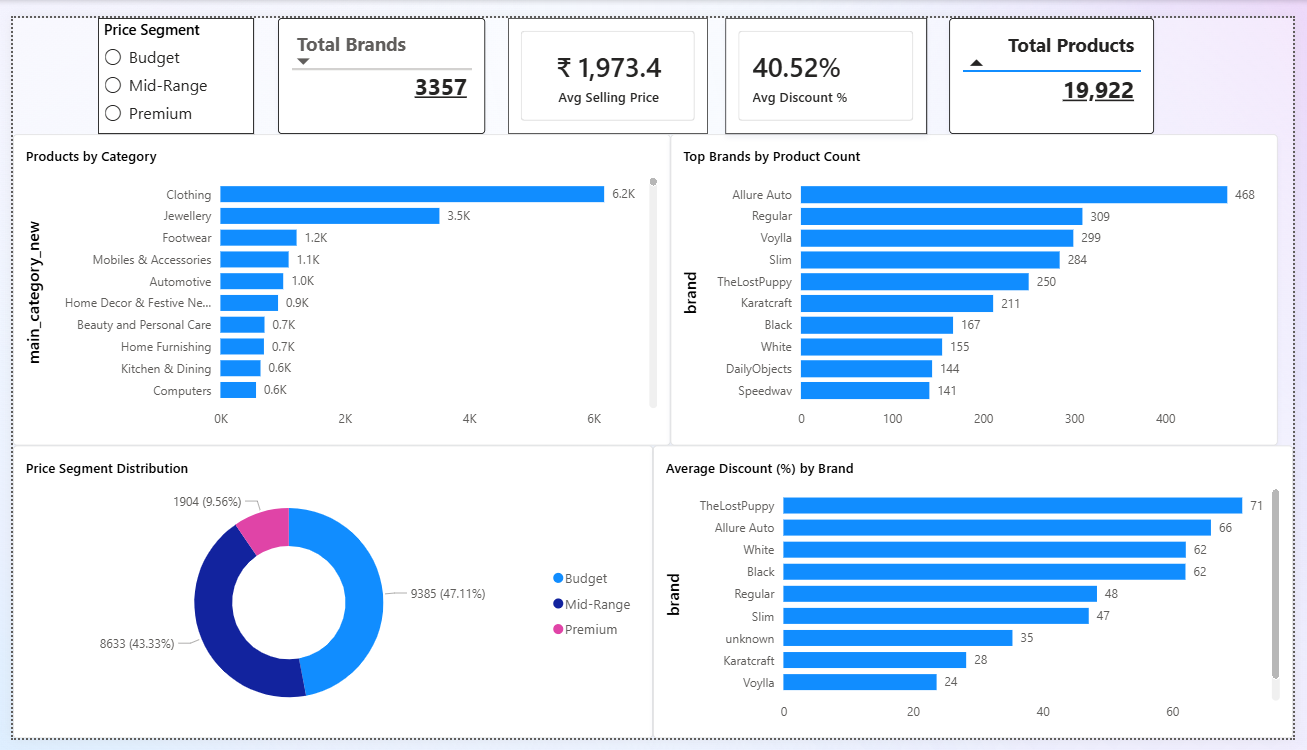

The page's visual inventory and layout, read from the dashboard file:
{"tool":"powerbi","page":{"name":"Total Products ","canvas":[1280,720],"ordinal":0},"visuals":[{"type":"tableEx","fields":{"Values":["SQL_Flipkart_Cleaned_Data.uniq_id"]},"box":[936.2,0,205,116.2],"z":0},{"type":"tableEx","fields":{"Values":["SQL_Flipkart_Cleaned_Data.brand"]},"box":[265,0,207.5,116.2],"z":1000},{"type":"cardVisual","fields":{"Data":["Avg(SQL_Flipkart_Cleaned_Data.discounted_price)"]},"box":[495,0,200,116.2],"z":2000},{"type":"clusteredBarChart","title":"Products by Category","fields":{"Category":["SQL_Flipkart_Cleaned_Data.main_category_new"],"Y":["CountNonNull(SQL_Flipkart_Cleaned_Data.uniq_id)"]},"box":[0,116.2,657.5,311.2],"z":3000},{"type":"donutChart","title":"Price Segment Distribution","fields":{"Category":["SQL_Flipkart_Cleaned_Data.price_segement"],"Y":["CountNonNull(SQL_Flipkart_Cleaned_Data.uniq_id)"]},"box":[0,427.5,640,292.5],"z":4000},{"type":"clusteredBarChart","title":"Top Brands by Product Count","fields":{"Category":["SQL_Flipkart_Cleaned_Data.brand"],"Y":["CountNonNull(SQL_Flipkart_Cleaned_Data.uniq_id)"]},"box":[657.5,116.2,607.5,311.2],"z":5000},{"type":"clusteredBarChart","title":"Average Discount (%) by Brand","fields":{"Category":["SQL_Flipkart_Cleaned_Data.brand"],"Y":["Avg(SQL_Flipkart_Cleaned_Data.discount_percentage)"]},"box":[640,427.5,640,292.5],"z":6000},{"type":"cardVisual","fields":{"Data":["SQL_Flipkart_Cleaned_Data.Avg Discount %"]},"box":[712.5,0,201.2,116.2],"z":7000},{"type":"listSlicer","fields":{"Values":["SQL_Flipkart_Cleaned_Data.Price Segment"]},"box":[85,0,156.2,116.2],"z":8000}]}

Visuals, with their boxes in screenshot pixels (x1, y1, x2, y2), scaled from the page's 1280x720 canvas onto the 1307x750 screenshot:
tableEx - SQL_Flipkart_Cleaned_Data.uniq_id: 956,0,1165,121
tableEx - SQL_Flipkart_Cleaned_Data.brand: 271,0,482,121
cardVisual - Avg(SQL_Flipkart_Cleaned_Data.discounted_price): 505,0,710,121
"Products by Category" clusteredBarChart: 0,121,671,445
"Price Segment Distribution" donutChart: 0,445,654,749
"Top Brands by Product Count" clusteredBarChart: 671,121,1292,445
"Average Discount (%) by Brand" clusteredBarChart: 654,445,1306,749
cardVisual - SQL_Flipkart_Cleaned_Data.Avg Discount %: 728,0,933,121
listSlicer - SQL_Flipkart_Cleaned_Data.Price Segment: 87,0,246,121
